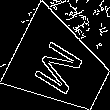M_SE: (30, 34, 90, 98)
